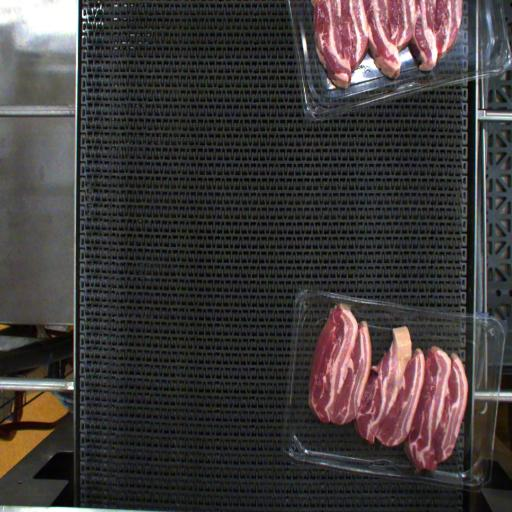packaging-error: (332, 291, 359, 313)
twisted-meat: (364, 324, 414, 424)
